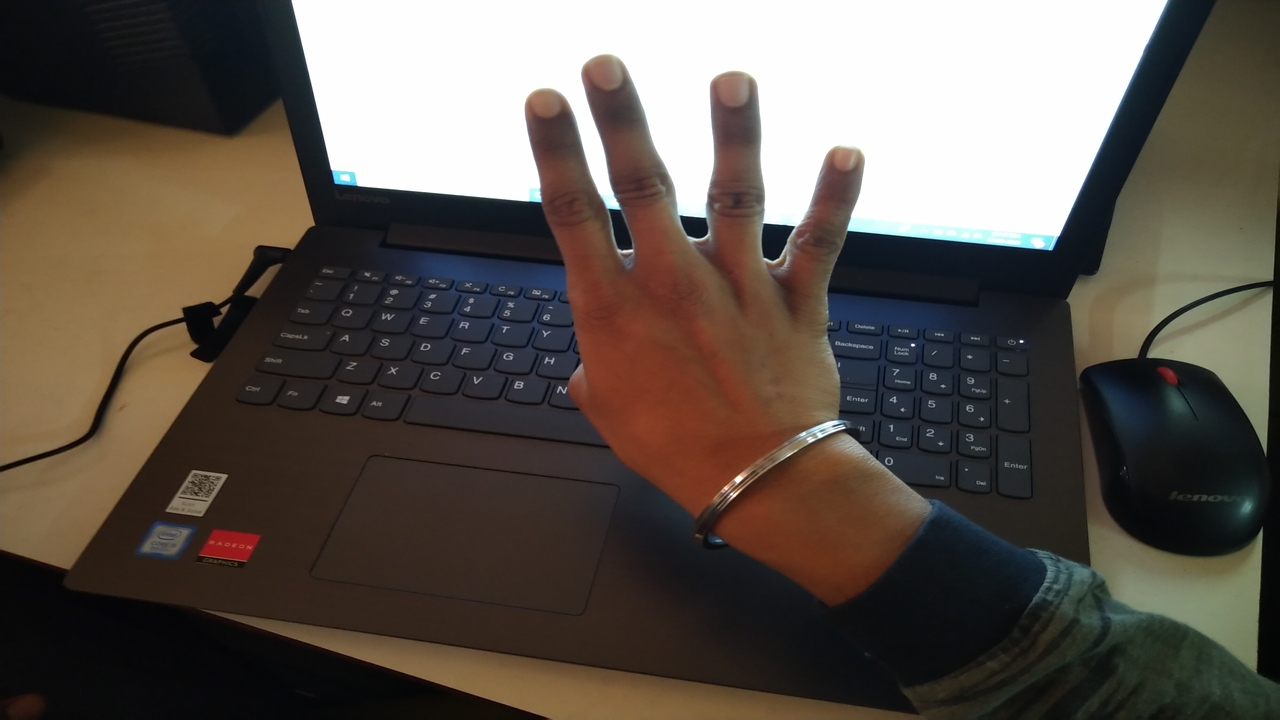fingertip: (576, 48, 636, 102), (708, 66, 764, 120), (518, 84, 576, 136), (814, 140, 874, 186)
